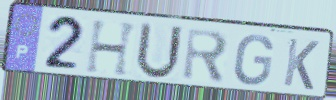2: (39, 14, 90, 74)
G: (232, 33, 276, 87)
H: (83, 19, 141, 79)
K: (281, 36, 322, 93)
R: (180, 26, 231, 86)
U: (133, 20, 186, 82)
